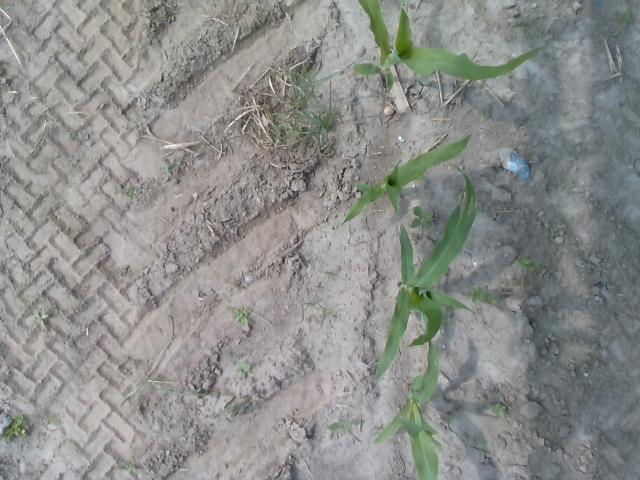Maize: (376, 165, 476, 384), (352, 0, 546, 92), (340, 118, 482, 222), (371, 309, 444, 480)
Weeds: (0, 414, 30, 445), (465, 284, 497, 305), (409, 206, 434, 230), (326, 416, 354, 434), (38, 411, 62, 429), (516, 255, 540, 272), (231, 306, 250, 325), (33, 308, 48, 330), (234, 360, 250, 379), (115, 462, 140, 474), (490, 402, 507, 419), (619, 9, 634, 28), (470, 0, 486, 16), (162, 159, 180, 172), (440, 412, 452, 425), (517, 19, 529, 31), (123, 188, 136, 197), (121, 264, 128, 274), (588, 353, 595, 359)
